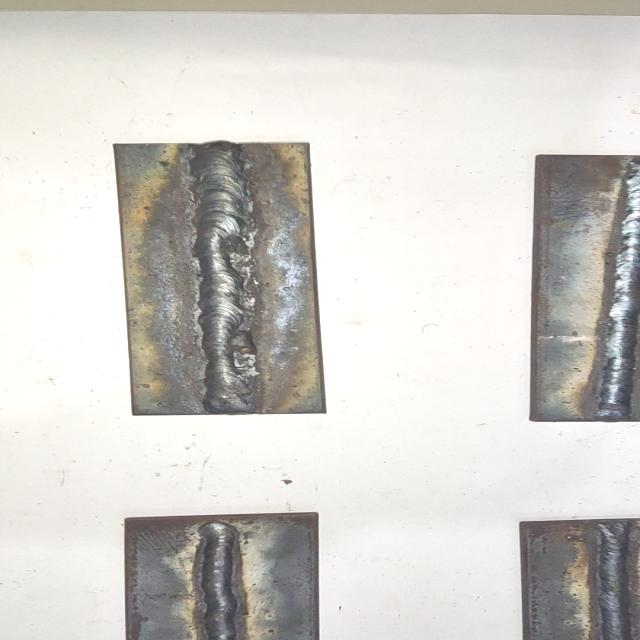Good Weld: (195, 148, 255, 412), (600, 157, 640, 417), (594, 524, 640, 640), (199, 522, 239, 640)
